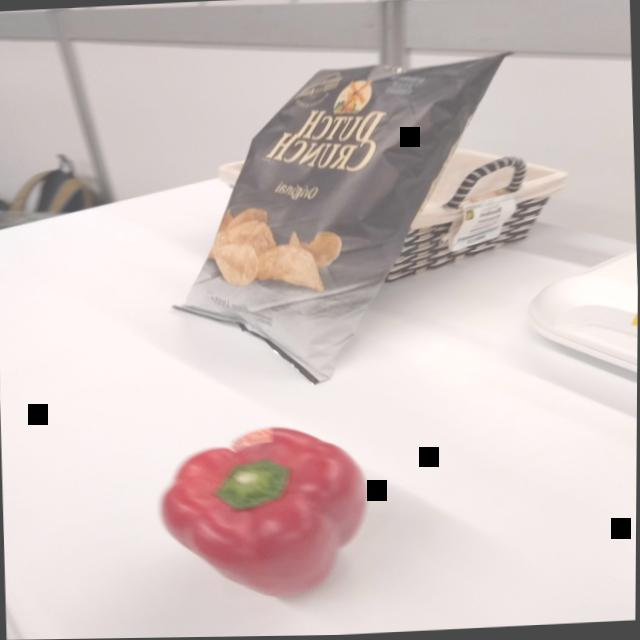paprika: (152, 421, 380, 611)
potato_chips: (155, 45, 529, 398)
